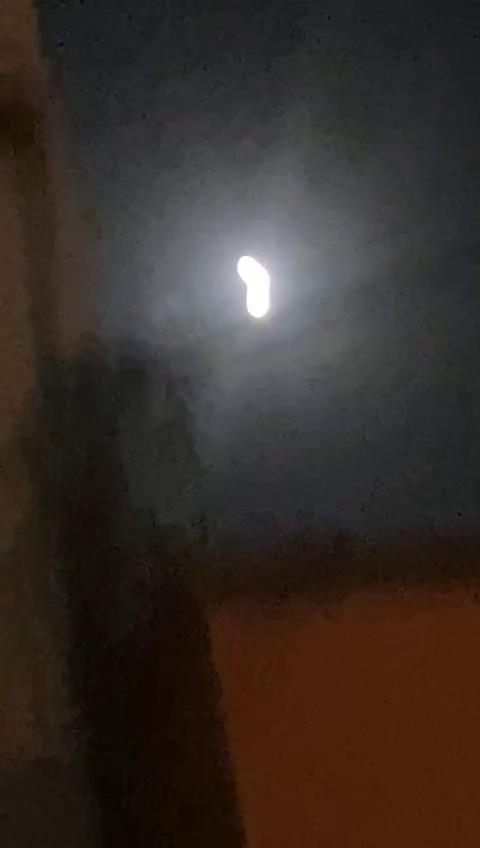moon: (246, 287, 290, 354)
